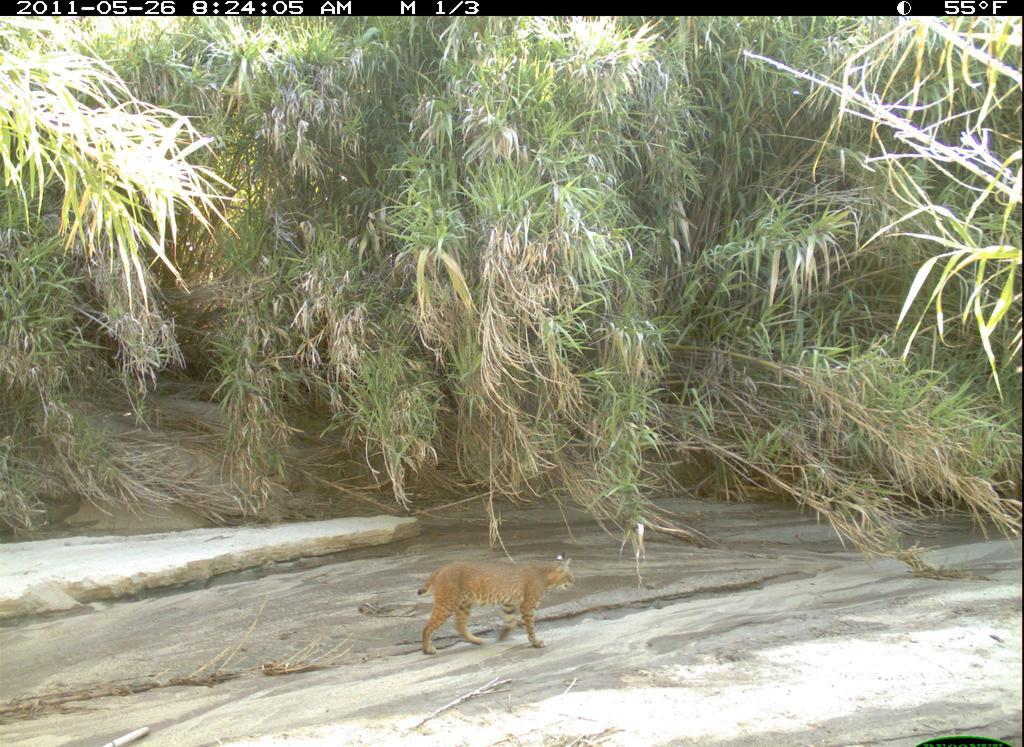bobcat: (408, 554, 582, 662)
